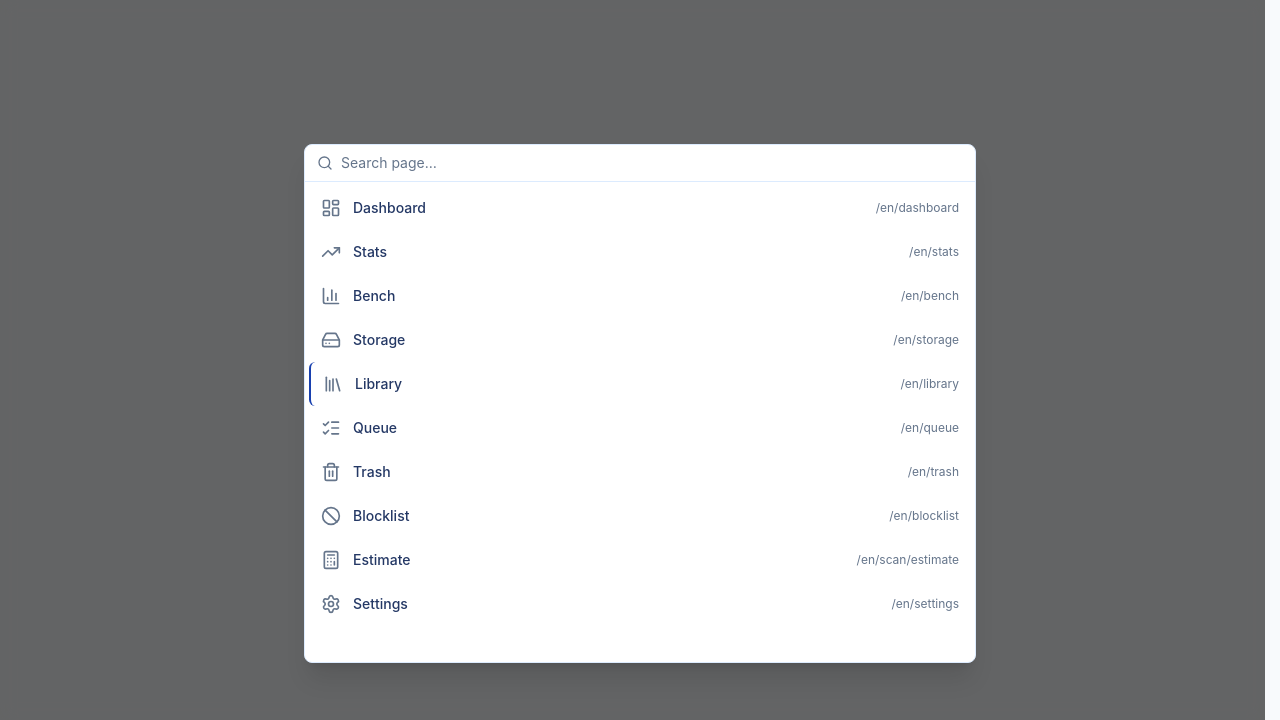
Test: CommandPalette › type "xyz" → no items + empty-state visible
Type "xyz" into the dropdown with placeholder "Search page…" at (652, 163), box [341,153,963,173]
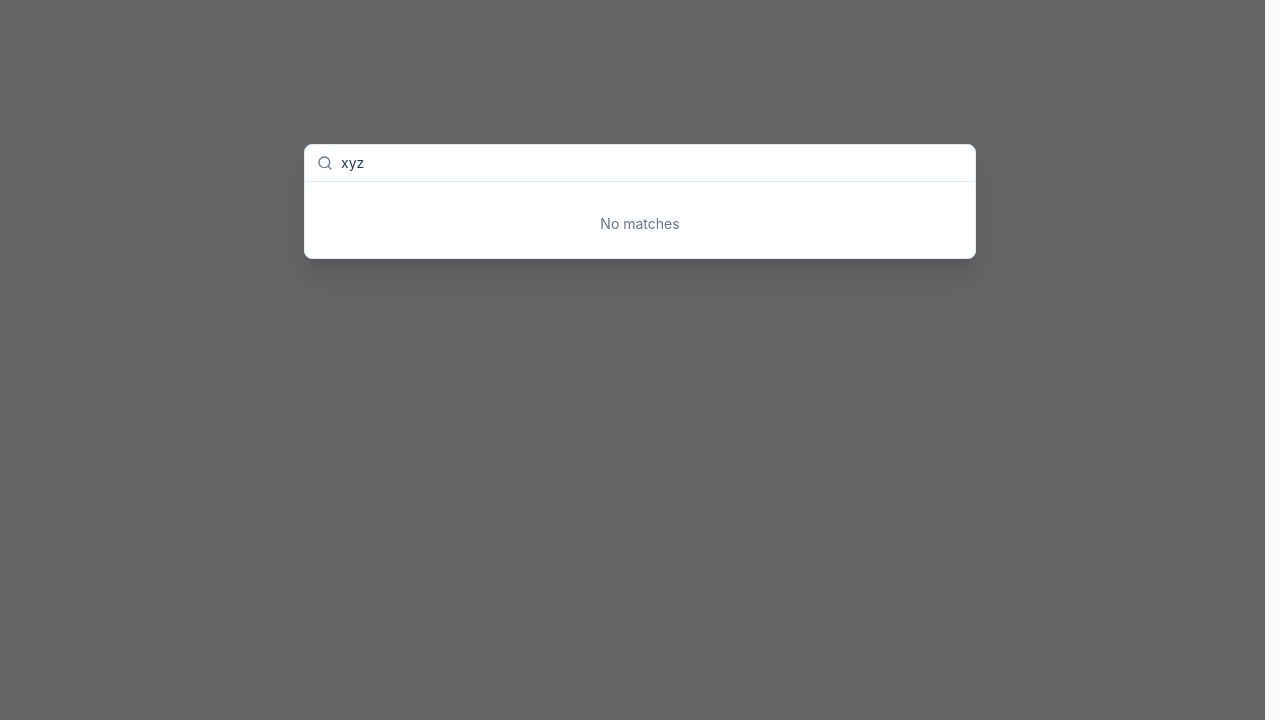
Expected: the message with test id "command-palette-empty" reads "No matches", [600,215,680,232]
